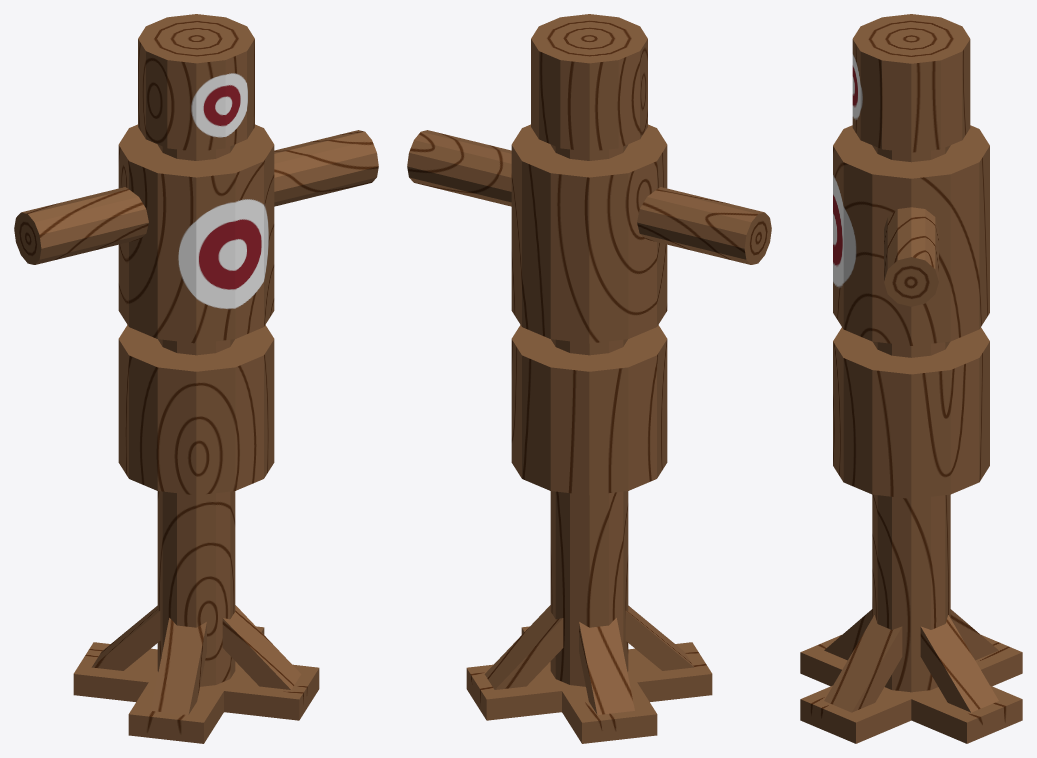
File: WoodenDummy_01.fbx
The picture shows the model from 3 angles, left to right: view 1: azimuth 30°, elevation 25°; view 2: azimuth 150°, elevation 25°; view 3: azimuth 270°, elevation 25°; orthographic projection.
Visible parts, largest first — view 1: WoodenDummy_01; view 2: WoodenDummy_01; view 3: WoodenDummy_01.
Part boxes in pixels (box(x1,y1,x2,y2)): WoodenDummy_01: box(14, 14, 378, 743); WoodenDummy_01: box(407, 14, 771, 743); WoodenDummy_01: box(800, 14, 1022, 743).
Size of the model in its own units: 100 by 185 by 56.57.
